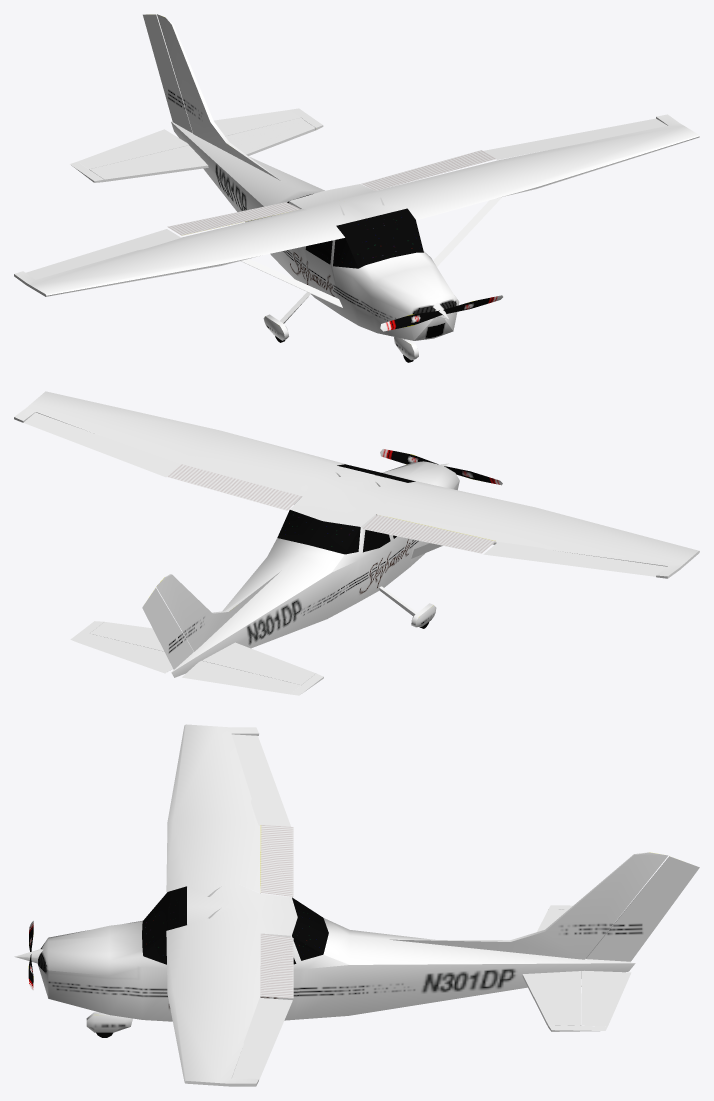
3 views of the same model, one above another, from view 1: azimuth 30°, elevation 25°; view 2: azimuth 150°, elevation 25°; view 3: azimuth 270°, elevation 25° (orthographic). The views are drawn at different scales.
Parts seen in each view (by area): view 1: Wings, Fuselage, VTail, RightHTail, LeftAileron, RightElevator, Rudder, RightAileron, LeftHTail, LeftFlap, RightFlap, LeftElevator (+2 smaller); view 2: Wings, Fuselage, VTail, LeftAileron, RightAileron, LeftFlap, RightFlap, RightHTail, RightElevator, Rudder, LeftElevator, LeftHTail (+2 smaller); view 3: Wings, Fuselage, VTail, Rudder, RightAileron, LeftHTail, LeftAileron, LeftElevator, RightFlap, LeftFlap, NoseWheel.
Part boxes in pixels (box(x1,y1,x2,y2)): Wings: box(14, 114, 699, 307); Fuselage: box(171, 122, 459, 340); VTail: box(157, 14, 280, 180); RightHTail: box(89, 145, 208, 181); LeftAileron: box(483, 118, 667, 159); RightElevator: box(70, 129, 188, 182); Rudder: box(143, 14, 192, 133); RightAileron: box(26, 229, 180, 279); LeftHTail: box(225, 118, 315, 155); LeftFlap: box(361, 150, 495, 190); RightFlap: box(167, 202, 300, 235); LeftElevator: box(214, 108, 323, 136); Wings: box(14, 391, 699, 578); Fuselage: box(171, 461, 459, 677); VTail: box(156, 570, 281, 651); LeftAileron: box(23, 412, 180, 477); RightAileron: box(483, 542, 667, 576); LeftFlap: box(167, 464, 301, 510); RightFlap: box(362, 514, 495, 553); RightHTail: box(202, 642, 315, 684); RightElevator: box(182, 660, 323, 695); Rudder: box(142, 587, 193, 669); LeftElevator: box(70, 621, 172, 673); LeftHTail: box(90, 622, 191, 651); Wings: box(166, 724, 297, 1086); Fuselage: box(38, 886, 635, 1021); VTail: box(390, 852, 668, 959); Rudder: box(586, 856, 699, 961); RightAileron: box(232, 734, 290, 826); LeftHTail: box(522, 971, 581, 1026); LeftAileron: box(232, 998, 292, 1080); LeftElevator: box(548, 970, 631, 1031); RightFlap: box(260, 825, 293, 896); LeftFlap: box(260, 933, 293, 998); NoseWheel: box(86, 1012, 132, 1037).
Size of the model in its own units: 1 by 0.2482 by 0.813.
2 materials, 1 textured.
